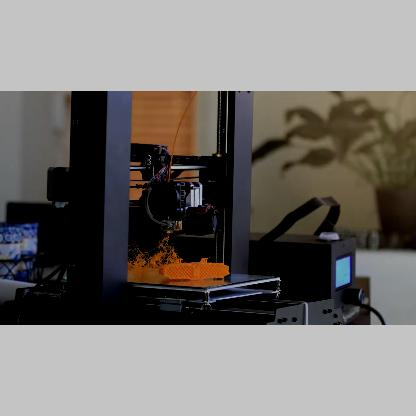fail: (132, 238, 172, 263)
